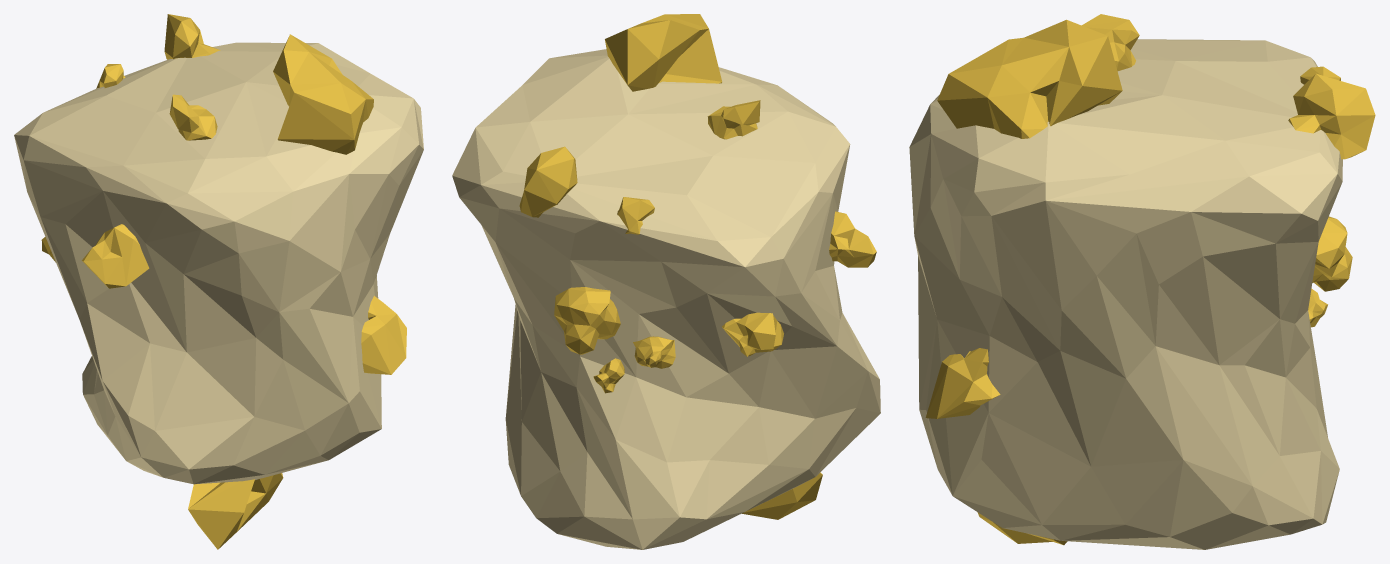
The model's file is MetalOre (13).fbx.
3 views of the same model, side by side, from view 1: azimuth 30°, elevation 25°; view 2: azimuth 150°, elevation 25°; view 3: azimuth 270°, elevation 25° (orthographic). The views are drawn at different scales.
Parts seen in each view (by area): view 1: Asteroid368; view 2: Asteroid368; view 3: Asteroid368.
Boxes of the visible parts, <box> form: Asteroid368: <box>14,14,423,549</box>; Asteroid368: <box>452,14,880,549</box>; Asteroid368: <box>909,14,1375,549</box>.
Size of the model in its own units: 543 by 736 by 542.
